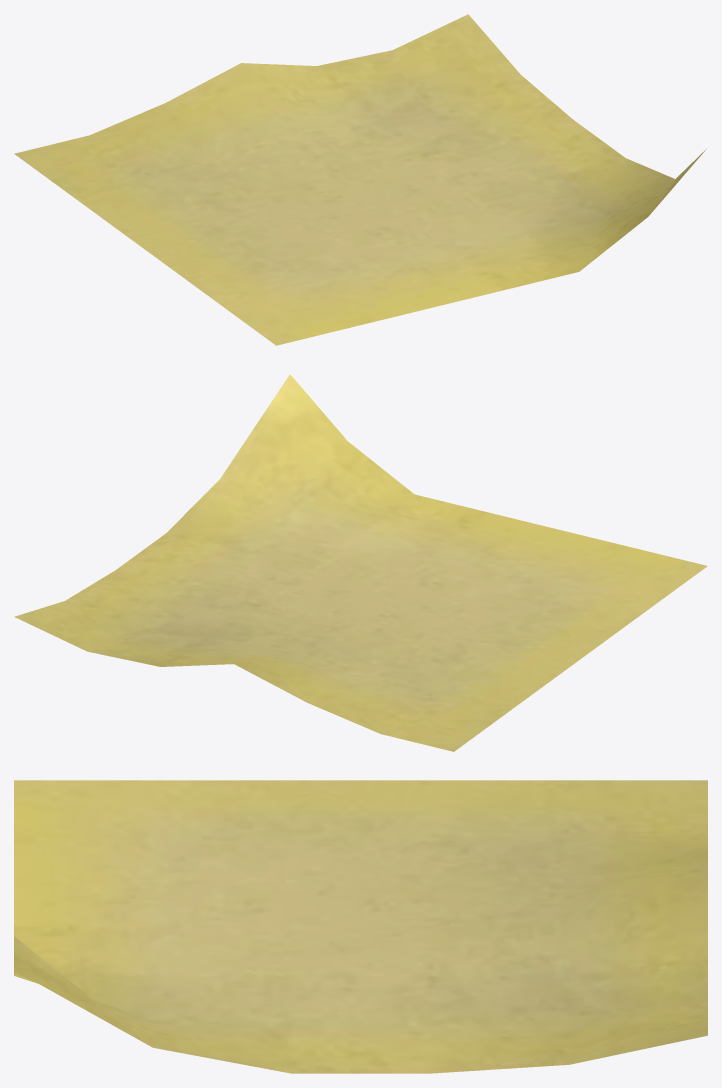
The model's file is single-sticky-note-mobile.glb.
3 renders of one model, top to bottom at view 1: azimuth 30°, elevation 25°; view 2: azimuth 150°, elevation 25°; view 3: azimuth 270°, elevation 25°, orthographic. The views are drawn at different scales.
Parts seen in each view (by area): view 1: Sticky_Note; view 2: Sticky_Note; view 3: Sticky_Note.
Part boxes in pixels (x1,y1,x2,y2): Sticky_Note: [14, 14, 706, 345]; Sticky_Note: [14, 374, 707, 751]; Sticky_Note: [14, 780, 707, 1073].
Size of the model in its own units: 0.076 by 0.0149 by 0.076.
1 material, 1 textured.
